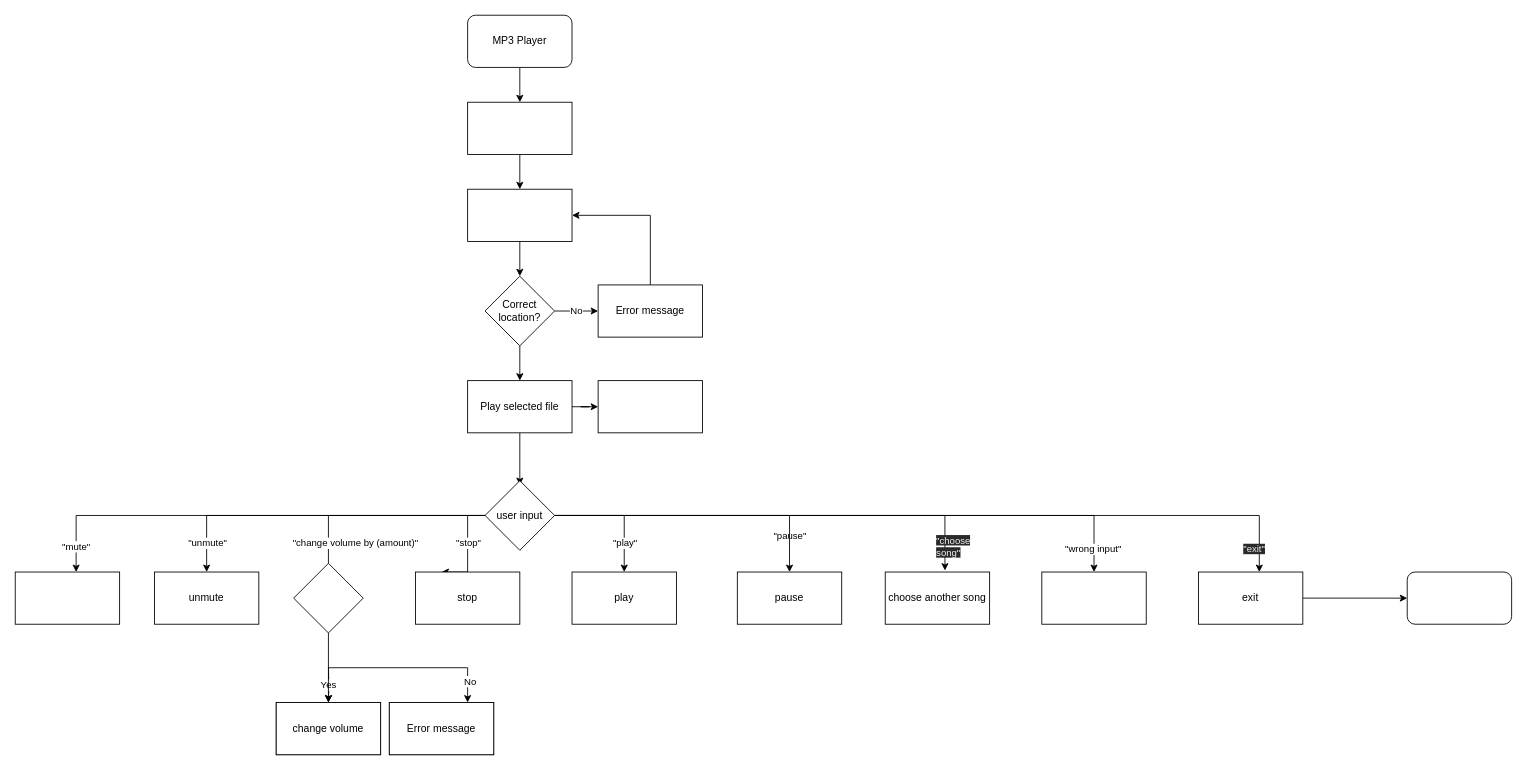
Some shapes in this 1527 by 770 pixel diagram are drawn without their labels. Here are the shapes that lost their labels. From the top down, the centre of each, then its label:
At point (519, 127): "Title screen".
At point (519, 214): "Ask user for file location".
At point (650, 406): "Add song to log file".
At point (67, 597): "mute".
At point (328, 597): "is volume correct?".
At point (1093, 597): "Display error".
At point (1459, 597): "Close app".
